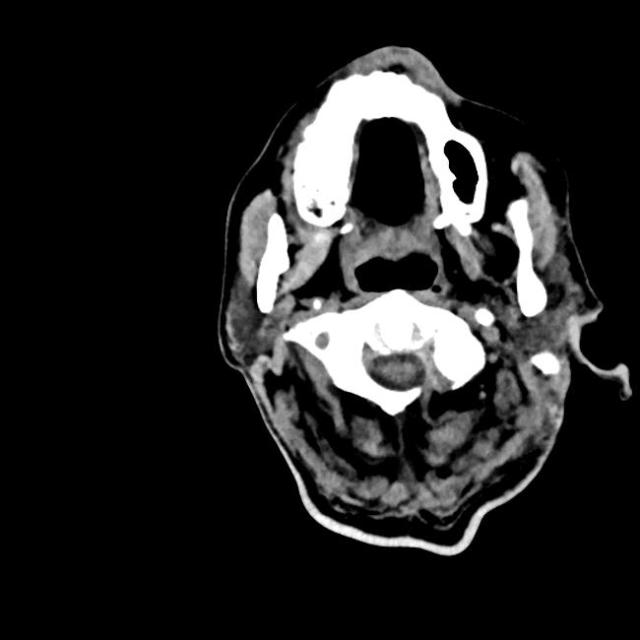lesion: (213, 44, 631, 558)
